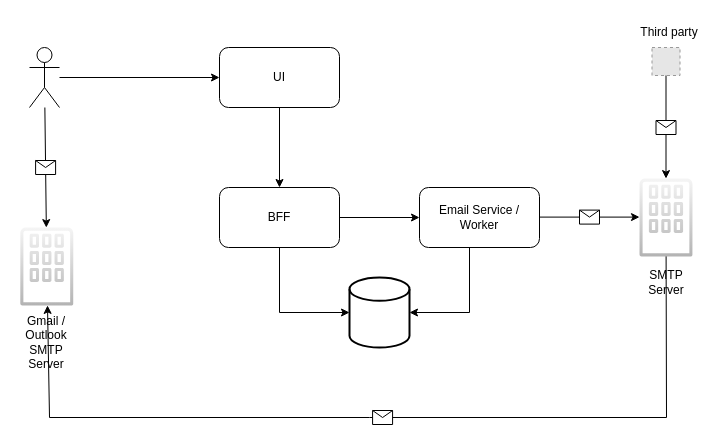
The diagram is 717 pixels wide and 443 high, and some of its shapes have lost their labels. Grey dashed boxes stand in for pictures. Here are the shapes that lost their labels. From the top down, the centre of each, then its label:
At point (44, 77): "User".
At point (379, 312): "DB".
